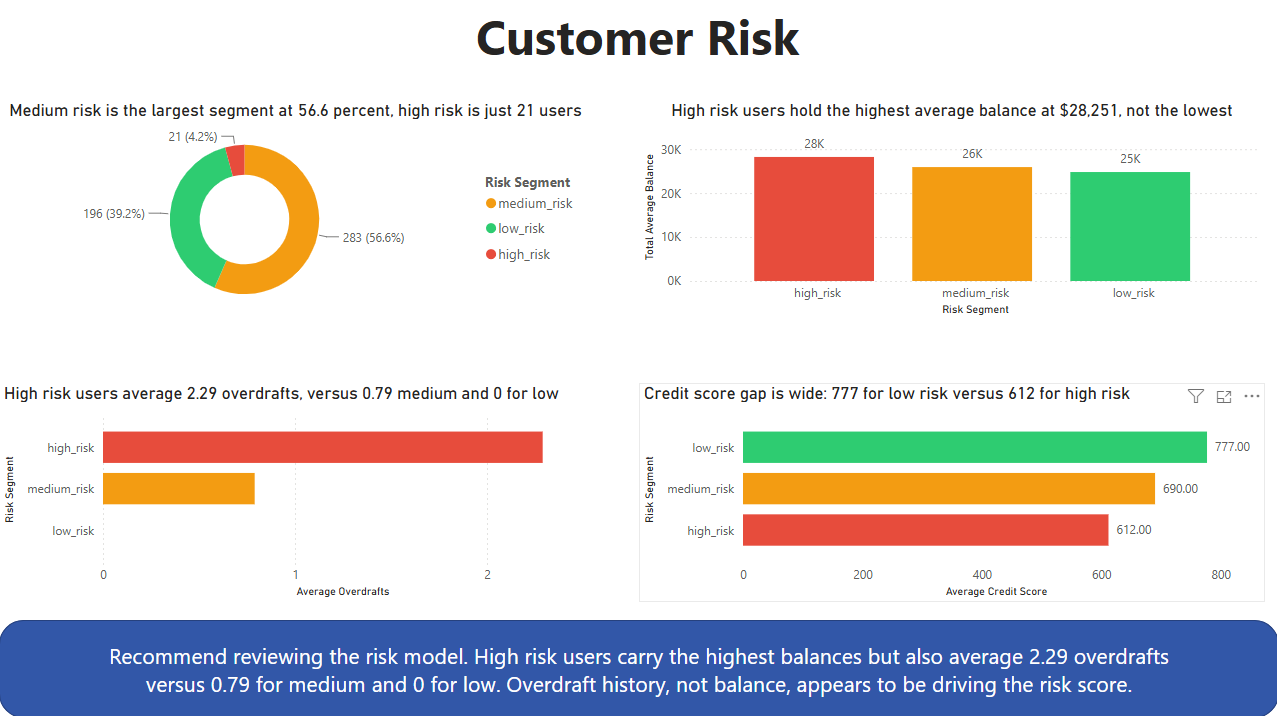

The page's visual inventory and layout, read from the dashboard file:
{"tool":"powerbi","page":{"name":"Customer Risk","canvas":[1280,720],"ordinal":3},"visuals":[{"type":"textbox","box":[471.6,0,336.7,91.9],"z":0},{"type":"donutChart","title":"Medium risk is the largest segment at 56.6 percent, high risk is just 21 users","fields":{"Category":["risk_summary.risk_segment"],"Y":["Sum(risk_summary.total_users)"]},"box":[0,102.1,592.8,220.3],"z":1000},{"type":"clusteredBarChart","title":"Credit score gap is wide: 777 for low risk versus 612 for high risk","fields":{"Category":["risk_summary.risk_segment"],"Y":["Avg(risk_summary.avg_credit_score)"]},"box":[640.3,385.1,626,219.4],"z":2000},{"type":"clusteredColumnChart","title":"High risk users hold the highest average balance at $28,251, not the lowest","fields":{"Category":["risk_summary.risk_segment"],"Y":["Sum(risk_summary.avg_balance)"]},"box":[640.3,102.1,626,220.3],"z":3000},{"type":"shape","box":[0,622.4,1279.7,97.6],"z":4000},{"type":"textbox","box":[86,637.6,1107.8,66.3],"z":5000},{"type":"barChart","title":"High risk users average 2.29 overdrafts, versus 0.79 medium and 0 for low","fields":{"Category":["risk_summary.risk_segment"],"Y":["Avg(risk_summary.avg_overdrafts)"]},"box":[0,385.1,592.8,219.4],"z":6000}]}

Visuals, with their boxes in screenshot pixels (x1, y1, x2, y2), scaled from the page's 1280x720 canvas onto the 1277x716 screenshot:
textbox: Rect(470, 0, 806, 91)
"Medium risk is the largest segment at 56.6 percent, high risk is just 21 users" donutChart: Rect(0, 102, 591, 321)
"Credit score gap is wide: 777 for low risk versus 612 for high risk" clusteredBarChart: Rect(639, 383, 1263, 601)
"High risk users hold the highest average balance at $28,251, not the lowest" clusteredColumnChart: Rect(639, 102, 1263, 321)
shape: Rect(0, 619, 1276, 715)
textbox: Rect(86, 634, 1191, 700)
"High risk users average 2.29 overdrafts, versus 0.79 medium and 0 for low" barChart: Rect(0, 383, 591, 601)
